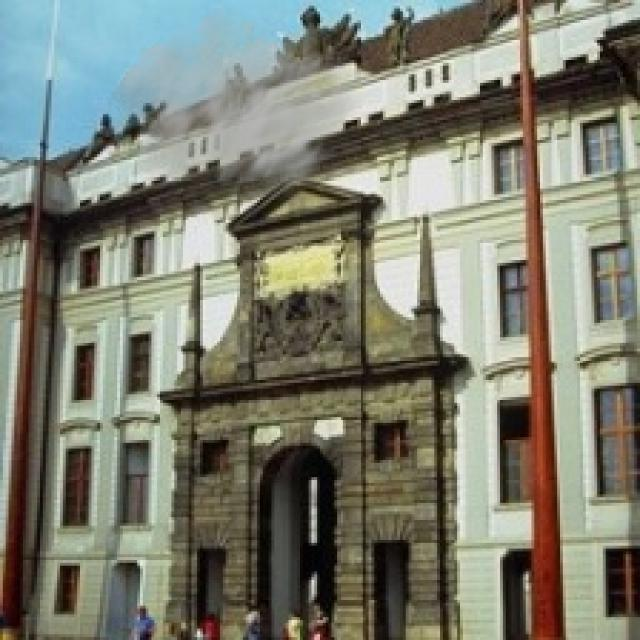Smoke: (100, 2, 369, 228)
